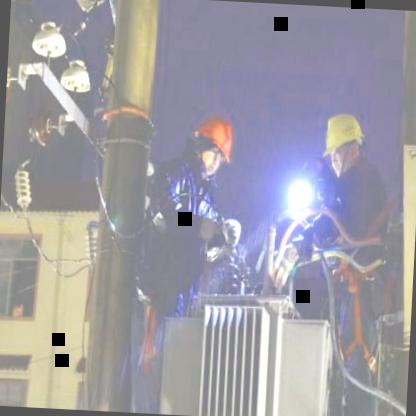helmet: (318, 107, 369, 182), (184, 116, 240, 178)
